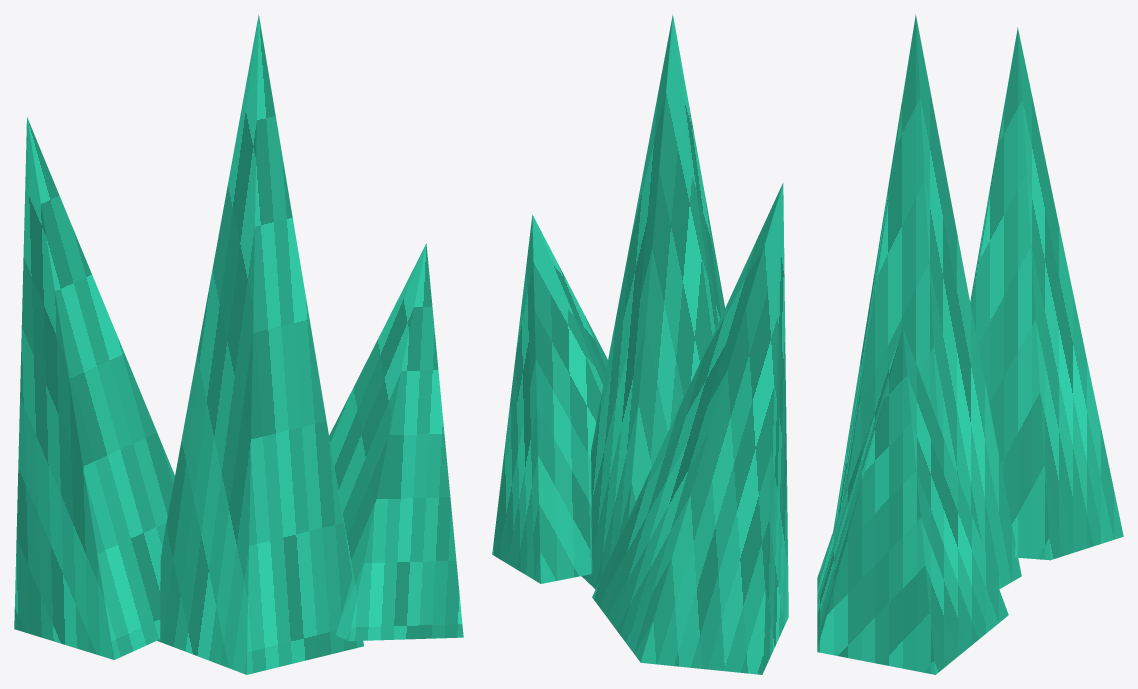
File: crystal_21.glb
3 views of the same model, side by side, from view 1: azimuth 30°, elevation 25°; view 2: azimuth 150°, elevation 25°; view 3: azimuth 270°, elevation 25° (orthographic). The views are drawn at different scales.
Parts seen in each view (by area): view 1: Jade.001, Jade, Jade.002; view 2: Jade, Jade.001, Jade.002; view 3: Jade, Jade.002, Jade.001.
Boxes of the visible parts, x1=… form: Jade.001: x1=157, y1=14, x2=363, y2=674; Jade: x1=14, y1=117, x2=174, y2=659; Jade.002: x1=329, y1=243, x2=463, y2=641; Jade: x1=592, y1=183, x2=788, y2=674; Jade.001: x1=581, y1=14, x2=724, y2=589; Jade.002: x1=492, y1=214, x2=607, y2=583; Jade: x1=970, y1=27, x2=1123, y2=560; Jade.002: x1=817, y1=328, x2=1008, y2=674; Jade.001: x1=833, y1=14, x2=1021, y2=589.
Bounding box in the file's own units: 0.7995 × 1.32 × 0.6367.
Materials: 1 (1 with a texture image).
